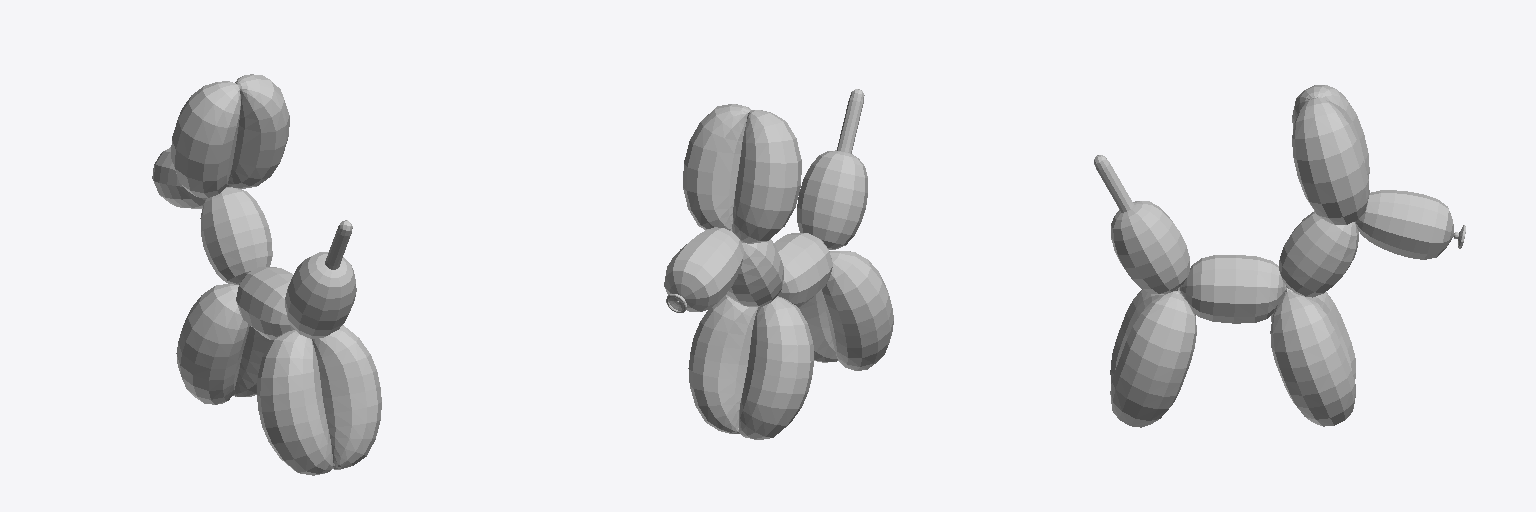
Rendered from balloon.obj.
The picture shows the model from 3 angles: view 1: azimuth 30°, elevation 25°; view 2: azimuth 150°, elevation 25°; view 3: azimuth 270°, elevation 25°; orthographic projection.
Visible parts, largest first — view 1: Dog; view 2: Dog; view 3: Dog.
Part boxes in pixels (bbox=[...]): Dog: bbox=[152, 74, 381, 475]; Dog: bbox=[664, 89, 893, 439]; Dog: bbox=[1094, 85, 1465, 427].
Bounding box in the file's own units: 0.7506 × 2.02 × 2.12.